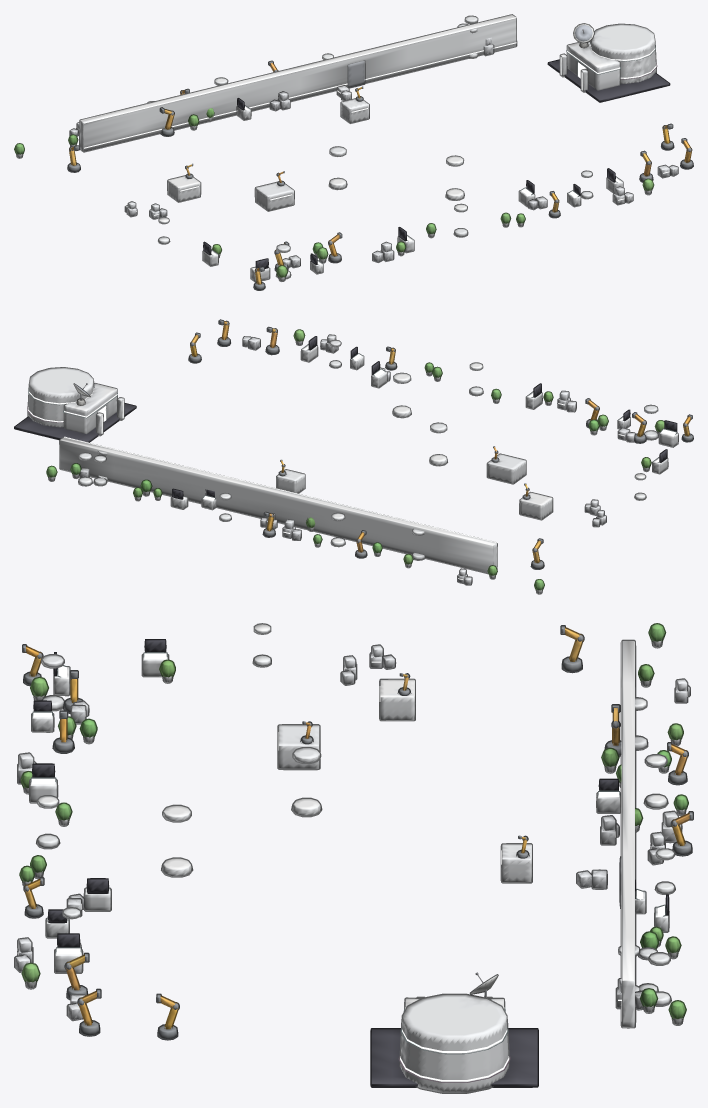
Rendered from cleanroom.glb.
3 views of the same model, one above another, from view 1: azimuth 30°, elevation 25°; view 2: azimuth 150°, elevation 25°; view 3: azimuth 270°, elevation 25° (orthographic). The views are drawn at different scales.
Visible parts, largest first — view 1: Baked_matte, Baked_matte_Outline, Baked_satin, Baked_glow_7bf3ff, Baked_metal, Baked_metal_Outline, Baked_satin_Outline; view 2: Baked_matte, Baked_matte_Outline, Baked_satin, Baked_metal, Baked_glow_7bf3ff, Baked_metal_Outline, Baked_satin_Outline; view 3: Baked_matte, Baked_matte_Outline, Baked_satin, Baked_metal, Baked_metal_Outline, Baked_satin_Outline, Baked_glow_94edff, Baked_glow_7bf3ff.
Boxes of the visible parts, x1,y1,x2,y2 form: Baked_matte: (15,15,691,284); Baked_matte_Outline: (14,14,691,283); Baked_satin: (204,25,669,268); Baked_glow_7bf3ff: (84,17,669,215); Baked_metal: (68,61,692,289); Baked_metal_Outline: (67,60,693,290); Baked_satin_Outline: (203,24,670,268); Baked_matte: (28,321,690,593); Baked_matte_Outline: (27,321,691,594); Baked_satin: (14,336,676,498); Baked_metal: (80,320,692,569); Baked_glow_7bf3ff: (29,389,624,579); Baked_metal_Outline: (188,319,693,569); Baked_satin_Outline: (14,336,677,499); Baked_matte: (15,624,689,1092); Baked_matte_Outline: (14,623,691,1093); Baked_satin: (33,640,667,1086); Baked_metal: (23,626,692,1039); Baked_metal_Outline: (22,625,693,1040); Baked_satin_Outline: (32,639,669,1087); Baked_glow_94edff: (31,653,664,954); Baked_glow_7bf3ff: (18,640,687,1052).
Bounding box in the file's own units: 41.15 × 3.19 × 26.21.
